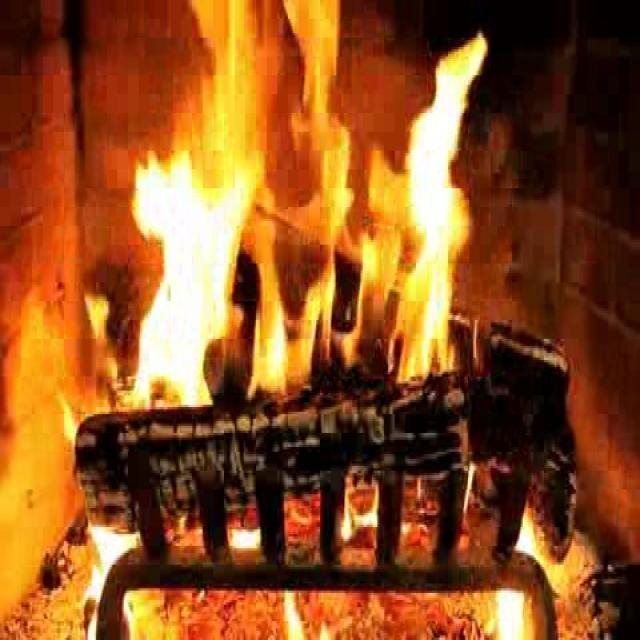Fire: (110, 5, 511, 388)
